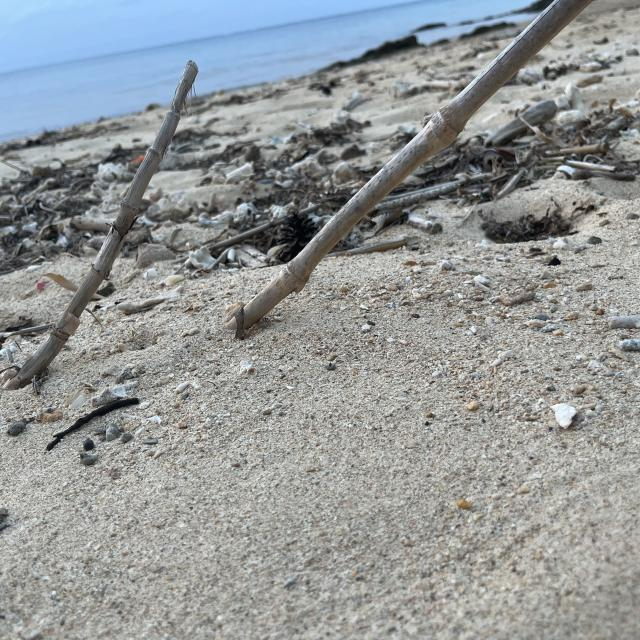pinecone: (272, 199, 327, 262)
seaweed: (223, 146, 634, 250), (0, 163, 99, 269)
stick: (236, 0, 568, 341), (14, 55, 215, 404)
